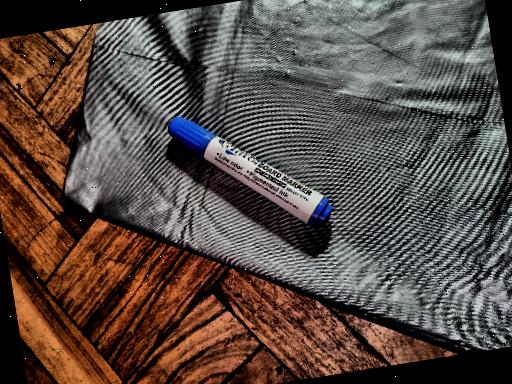marcador azul: (168, 116, 332, 226)
